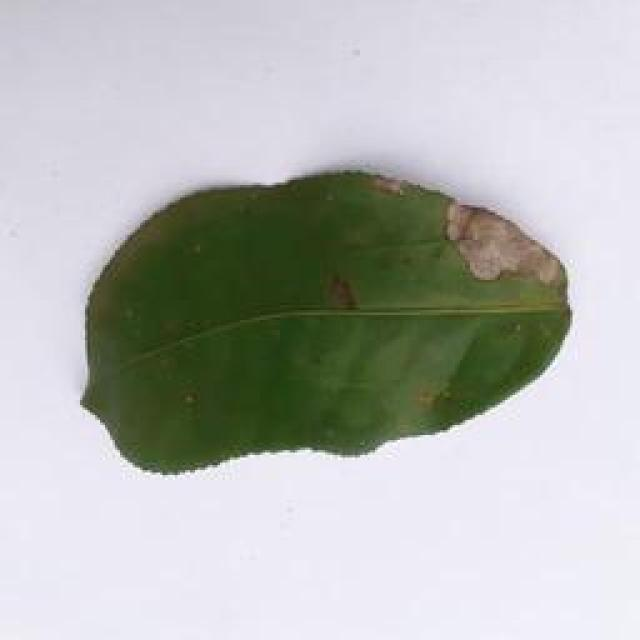Gray Blight: (54, 139, 584, 485)
